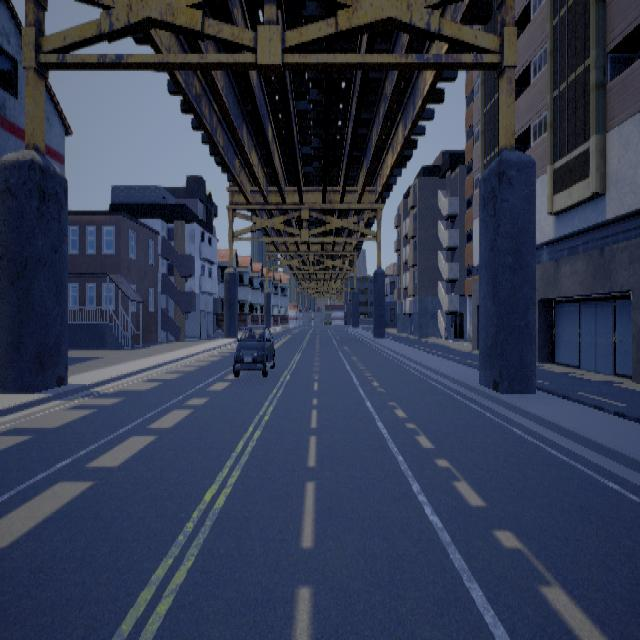vehicle: (232, 324, 274, 376)
